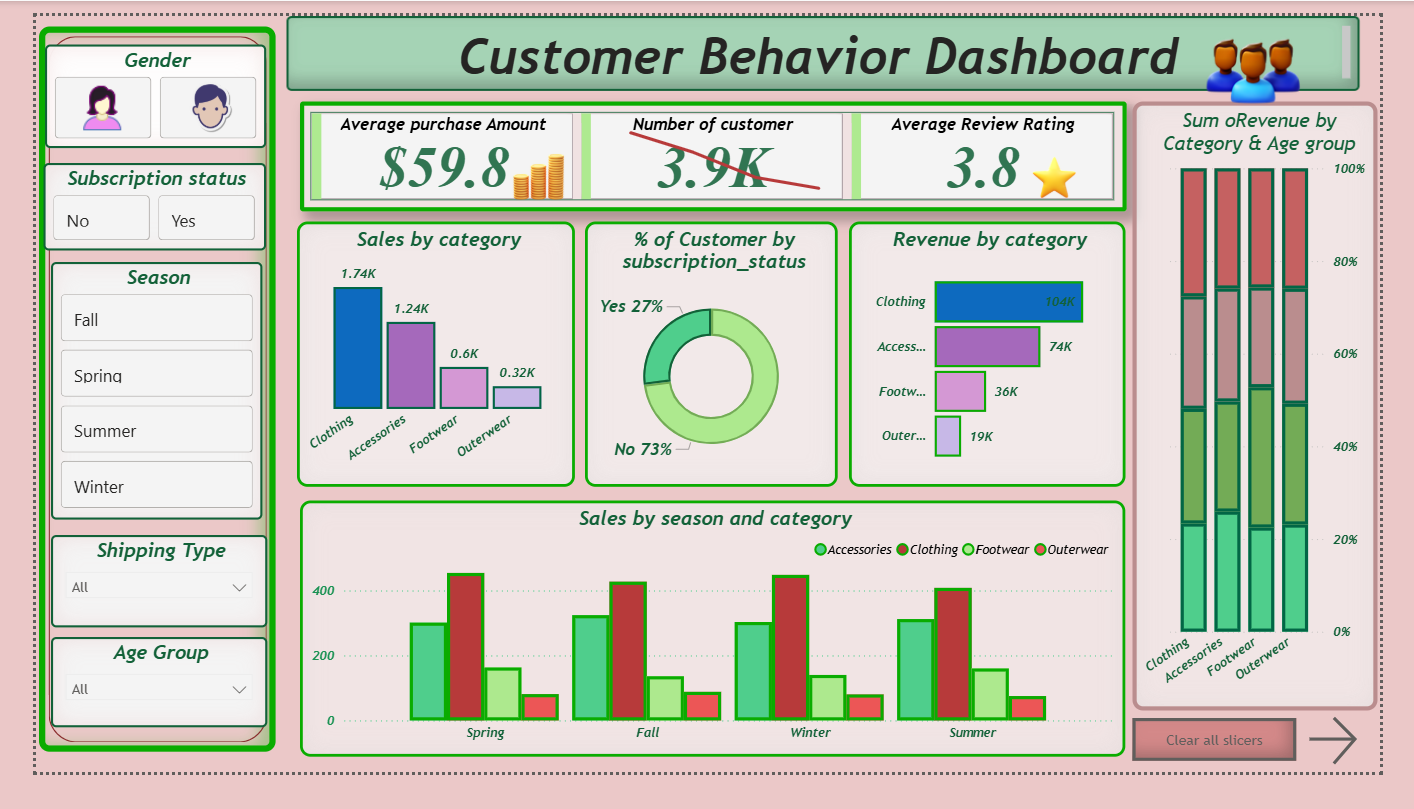

This screenshot's page, from the dashboard's own definition file:
{"tool":"powerbi","page":{"name":"Page 2","canvas":[1280,720],"ordinal":0},"visuals":[{"type":"image","box":[16.1,59.7,95.2,54.8],"z":0},{"type":"cardVisual","fields":{"Data":["Customer_project.Average purchase Amount","Customer_project.Number of customer","Customer_project.Average Review Rating"]},"box":[251.4,81.8,787.4,104.5],"z":1000},{"type":"textbox","box":[239.2,0,1022.1,71.2],"z":2000},{"type":"donutChart","title":"% of Customer by subscription_status","fields":{"Category":["Customer_project.subscription_status"],"Y":["CountNonNull(Customer_project.subscription_status)"]},"box":[522.4,195.3,240.8,252.9],"z":3000},{"type":"barChart","title":"Revenue by category","fields":{"Category":["Customer_project.category"],"Y":["Sum(Customer_project.purchase_amount)"]},"box":[773.8,195.3,263.5,252.9],"z":4000},{"type":"clusteredColumnChart","title":"Sales by category","fields":{"Category":["Customer_project.category"],"Y":["CountNonNull(Customer_project.customer_id)"]},"box":[248.3,195.3,265,252.9],"z":5000},{"type":"shape","box":[3,10.6,225.6,690.5],"z":6000},{"type":"advancedSlicerVisual","title":"Gender","fields":{"Values":["Customer_project.gender"]},"box":[9.1,27.3,210.5,98.4],"z":7000},{"type":"advancedSlicerVisual","title":"Season","fields":{"Values":["Customer_project.season"]},"box":[13.6,234.7,201.4,245.3],"z":8000},{"type":"slicer","title":"Shipping Type","fields":{"Values":["Customer_project.shipping_type"]},"box":[13.6,493.6,205.9,87.8],"z":9000},{"type":"slicer","title":"Age Group","fields":{"Values":["Customer_project.age_group"]},"box":[13.6,592.1,205.9,86.3],"z":10000},{"type":"advancedSlicerVisual","title":"Subscription status","fields":{"Values":["Customer_project.subscription_status"]},"box":[7.6,139.3,212,83.3],"z":11000},{"type":"hundredPercentStackedColumnChart","title":"Sum oRevenue by Category & Age group","fields":{"Category":["Customer_project.category"],"Y":["Sum(Customer_project.purchase_amount)"],"Series":["Customer_project.age_group"]},"box":[1044.8,81.8,233.2,579.9],"z":12000},{"type":"clusteredColumnChart","title":"Sales by season and category","fields":{"Category":["Customer_project.season"],"Y":["CountNonNull(Customer_project.customer_id)"],"Series":["Customer_project.category"]},"box":[251.4,461.8,785.9,243.8],"z":13000},{"type":"image","box":[15.8,60,94.7,55.3],"z":14000},{"type":"image","box":[115.3,55.3,101.1,60],"z":15000},{"type":"actionButton","box":[1044.8,669.3,156,40.9],"z":16000},{"type":"actionButton","box":[1205.3,661.7,68.1,57.5],"z":17000},{"type":"image","box":[1039,0,241.6,101.1],"z":18000},{"type":"image","box":[922.2,124.2,93.9,57.5],"z":19000},{"type":"image","box":[410.5,120,137.4,66.3],"z":20000},{"type":"lineChart","fields":{"Category":["Customer_project.category"],"Y":["Count(Customer_project.customer_id)"]},"box":[536.8,86.8,236.8,94.7],"z":21000}]}

Visuals, with their boxes in screenshot pixels (x1, y1, x2, y2), scaled from the page's 1280x720 canvas onto the 1414x809 screenshot:
image: box=[18, 67, 123, 129]
cardVisual - Customer_project.Average purchase Amount x Customer_project.Number of customer: box=[278, 92, 1148, 209]
textbox: box=[264, 0, 1393, 80]
"% of Customer by subscription_status" donutChart: box=[577, 219, 843, 504]
"Revenue by category" barChart: box=[855, 219, 1146, 504]
"Sales by category" clusteredColumnChart: box=[274, 219, 567, 504]
shape: box=[3, 12, 253, 788]
"Gender" advancedSlicerVisual: box=[10, 31, 243, 141]
"Season" advancedSlicerVisual: box=[15, 264, 238, 539]
"Shipping Type" slicer: box=[15, 555, 242, 653]
"Age Group" slicer: box=[15, 665, 242, 762]
"Subscription status" advancedSlicerVisual: box=[8, 157, 243, 250]
"Sum oRevenue by Category & Age group" hundredPercentStackedColumnChart: box=[1154, 92, 1412, 743]
"Sales by season and category" clusteredColumnChart: box=[278, 519, 1146, 793]
image: box=[17, 67, 122, 130]
image: box=[127, 62, 239, 130]
actionButton: box=[1154, 752, 1327, 798]
actionButton: box=[1331, 743, 1407, 808]
image: box=[1148, 0, 1413, 114]
image: box=[1019, 140, 1122, 204]
image: box=[453, 135, 605, 209]
lineChart - Customer_project.category x Count(Customer_project.customer_id): box=[593, 98, 855, 204]
